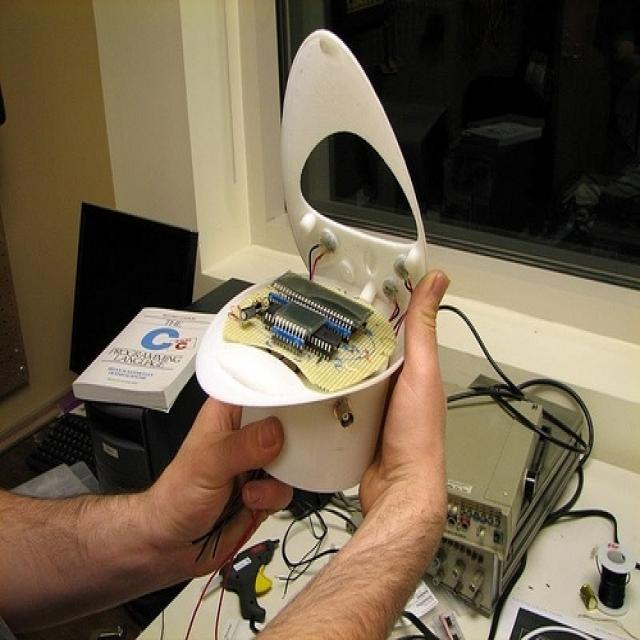Cable: (440, 297, 636, 546)
E-waste: (202, 22, 433, 435)
